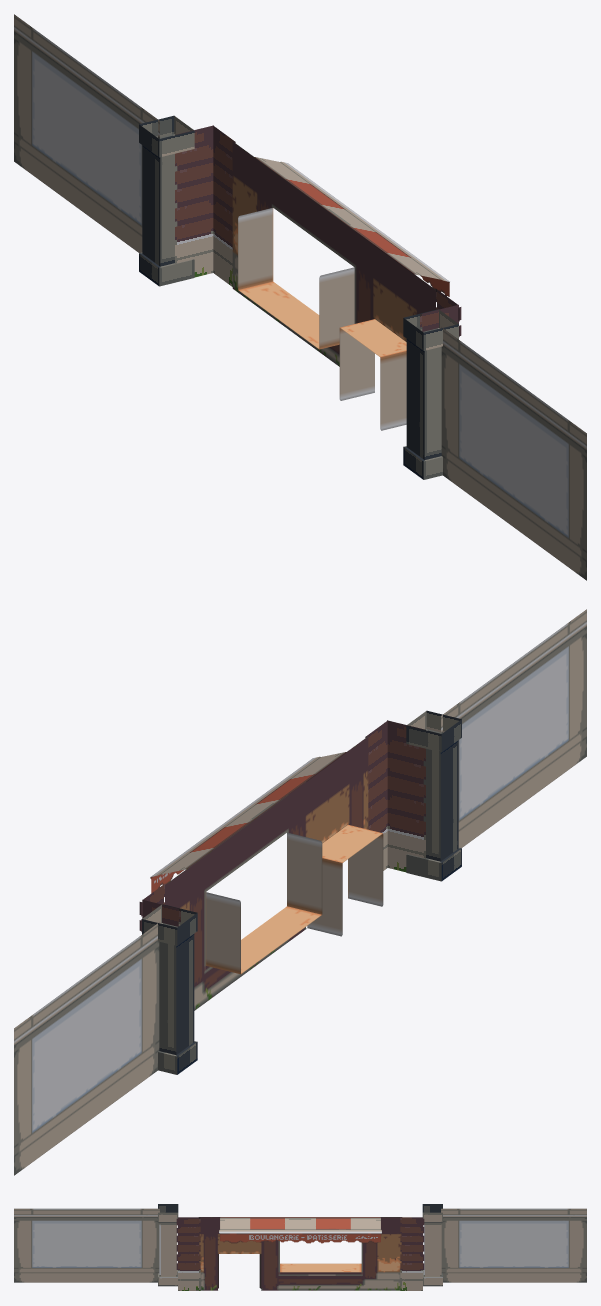
Rendered from facade.fbx.
The picture shows the model from 3 angles, top to bottom: view 1: azimuth 30°, elevation 25°; view 2: azimuth 150°, elevation 25°; view 3: azimuth 270°, elevation 25°; orthographic projection. The views are drawn at different scales.
Parts seen in each view (by area): view 1: Cube.005, Cube.006, Cube.008, Cube.001, Cube.002, Cube.007, Cube.004, Cube.003; view 2: Cube.006, Cube.005, Cube.008, Cube.001, Cube.002, Cube.004, Cube.007, Cube.003; view 3: Cube.005, Cube.006, Cube.001, Cube.003, Cube.002, Cube.004, Cube.007, Cube.008.
Part boxes in pixels (box(x1,y1,x2,y2)): Cube.005: box(441, 327, 586, 580); Cube.006: box(14, 14, 159, 252); Cube.008: box(238, 208, 406, 430); Cube.001: box(232, 141, 435, 366); Cube.002: box(175, 125, 461, 336); Cube.007: box(139, 115, 194, 286); Cube.004: box(403, 309, 458, 479); Cube.003: box(254, 157, 449, 296); Cube.006: box(14, 922, 159, 1175); Cube.005: box(441, 609, 586, 847); Cube.008: box(205, 824, 383, 974); Cube.001: box(165, 736, 368, 1010); Cube.002: box(139, 720, 425, 931); Cube.004: box(406, 710, 461, 881); Cube.007: box(142, 904, 197, 1074); Cube.003: box(150, 752, 346, 893); Cube.005: box(14, 1208, 159, 1282); Cube.006: box(441, 1208, 586, 1282); Cube.001: box(199, 1217, 401, 1290); Cube.003: box(219, 1217, 381, 1243); Cube.002: box(176, 1217, 424, 1290); Cube.004: box(158, 1204, 178, 1286); Cube.007: box(422, 1204, 442, 1286); Cube.008: box(280, 1263, 361, 1272).
Bounding box in the file's own units: 250 × 400 × 2818.
